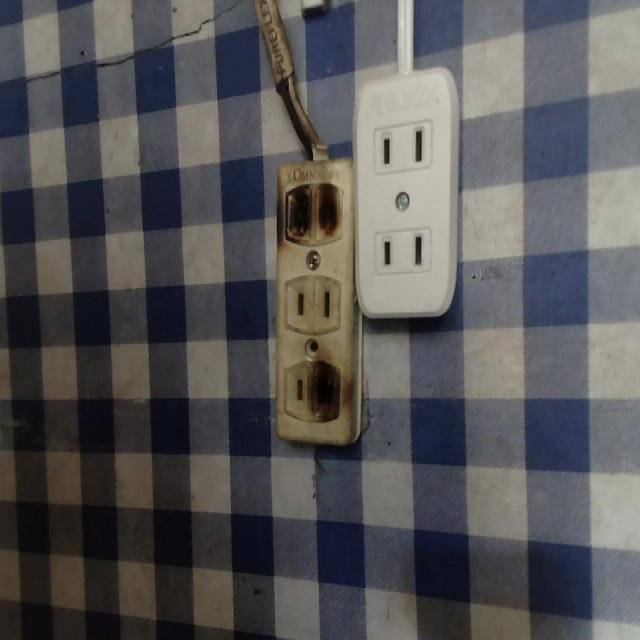-: (285, 182, 343, 246), (307, 359, 349, 428)
